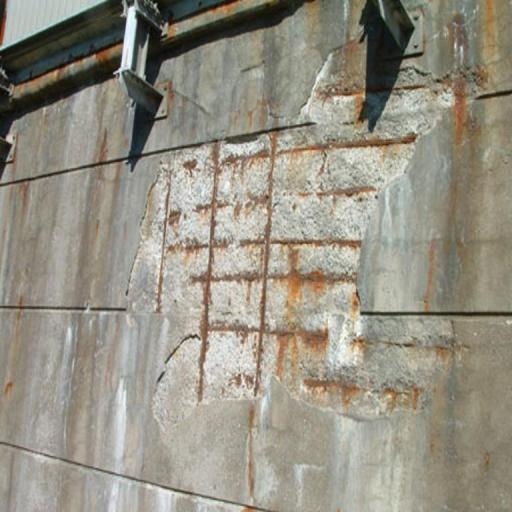spalling: (127, 43, 487, 433)
